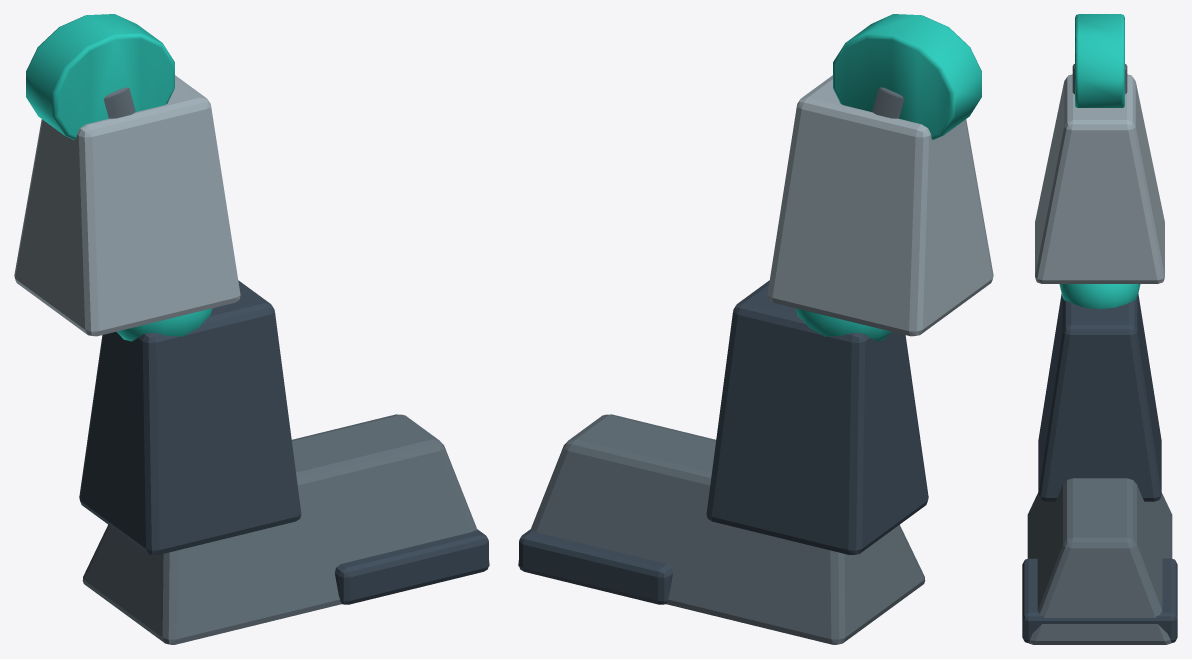
The model's file is SM_Ember_LegL.fbx.
3 views of the same model, side by side, from view 1: azimuth 30°, elevation 25°; view 2: azimuth 150°, elevation 25°; view 3: azimuth 270°, elevation 25° (orthographic). The views are drawn at different scales.
Visible parts, largest first — view 1: SM_Ember_LegL; view 2: SM_Ember_LegL; view 3: SM_Ember_LegL.
Part boxes in pixels (bbox=[...]): SM_Ember_LegL: bbox=[14, 14, 489, 644]; SM_Ember_LegL: bbox=[518, 14, 993, 644]; SM_Ember_LegL: bbox=[1022, 14, 1177, 644].
Bounding box in the file's own units: 16.52 × 6.62 × 23.
